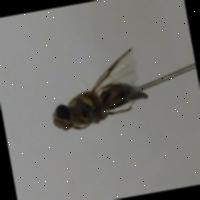Oriental-fruit-fly: (33, 43, 161, 140)
